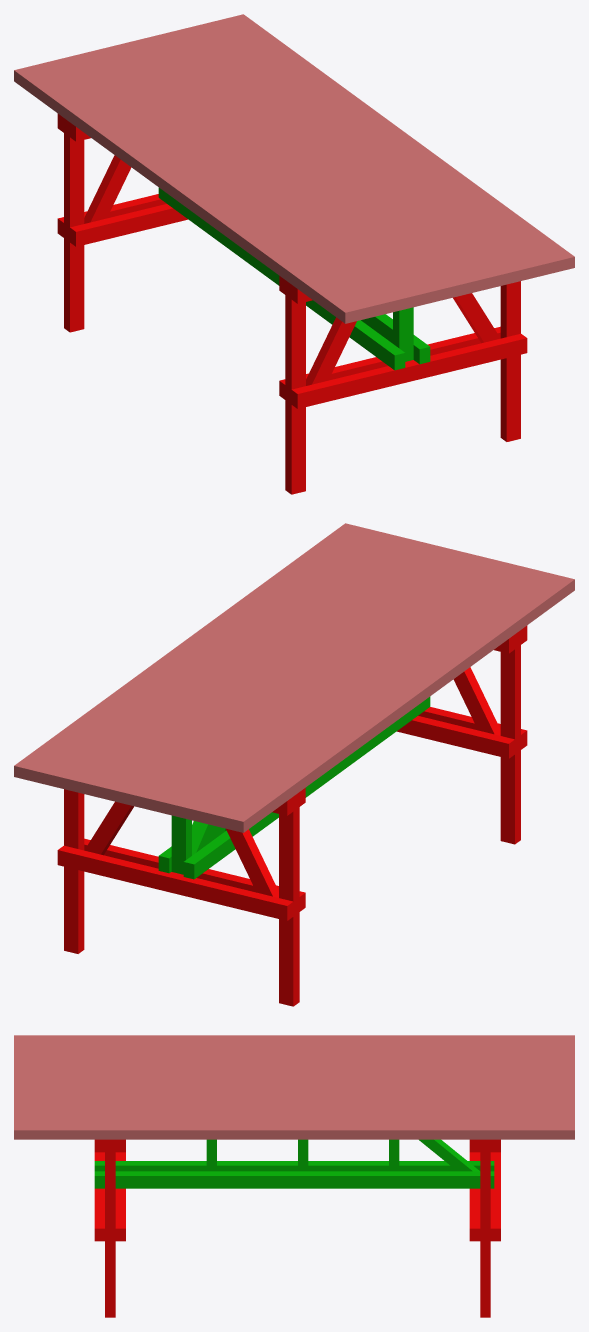
The model's file is result.glb.
The picture shows the model from 3 angles, top to bottom: view 1: azimuth 30°, elevation 25°; view 2: azimuth 150°, elevation 25°; view 3: azimuth 270°, elevation 25°; orthographic projection. The views are drawn at different scales.
Visible parts, largest first — view 1: f63db1d8-2d69-4f84-a3fc-b9dc0944ab00__Box, c507d235-5a14-4614-bfa7-ccb2640d1622__undefined, fe86011e-7398-49b5-8485-32fb0e5b5b6c__undefined, e96bb870-f099-4668-b173-f22ef5a2b9a7__undefined, eb4263c8-c96c-484e-93d6-34f1e4fbf21c__undefined, 46bde557-fb23-41fb-9177-49fc7b3fc7f9__undefined, 3be2fafb-542a-456f-b887-0e5b9a78c752__undefined, d27769af-35dd-4cf0-b831-893193ff208a__undefined, 1911e95e-22cd-4c92-9d74-c03f2558a0f6__undefined, 03194011-13da-468c-a1d5-36cc0beb4628__undefined, be2309a7-dd64-49d2-a565-8419b2b2bbde__undefined, cfa7d014-77df-4208-b47f-67898341acc1__undefined (+17 smaller); view 2: f63db1d8-2d69-4f84-a3fc-b9dc0944ab00__Box, c60cdaa5-fef5-437d-a140-616302a56ade__undefined, cfa7d014-77df-4208-b47f-67898341acc1__undefined, fe86011e-7398-49b5-8485-32fb0e5b5b6c__undefined, be2309a7-dd64-49d2-a565-8419b2b2bbde__undefined, c507d235-5a14-4614-bfa7-ccb2640d1622__undefined, 3e0b6f8d-5316-4c8a-b55b-9b5701a7d679__undefined, 95abfcd9-2939-45a6-a92c-fc98ef927d23__undefined, ddd89134-8539-4b78-8264-ab6224ce6c86__undefined, e96bb870-f099-4668-b173-f22ef5a2b9a7__undefined, 03194011-13da-468c-a1d5-36cc0beb4628__undefined, eb4263c8-c96c-484e-93d6-34f1e4fbf21c__undefined (+16 smaller); view 3: d27769af-35dd-4cf0-b831-893193ff208a__undefined, f94201b4-7f2b-4d5b-b57c-97f5ebb82b92__strutH, f63db1d8-2d69-4f84-a3fc-b9dc0944ab00__Box, c507d235-5a14-4614-bfa7-ccb2640d1622__undefined, ddd89134-8539-4b78-8264-ab6224ce6c86__undefined, be2309a7-dd64-49d2-a565-8419b2b2bbde__undefined, eb4263c8-c96c-484e-93d6-34f1e4fbf21c__undefined, dc74ca91-187e-4202-a12c-c9796b25f74c__undefined, cfa7d014-77df-4208-b47f-67898341acc1__undefined, 46bde557-fb23-41fb-9177-49fc7b3fc7f9__undefined, 3be2fafb-542a-456f-b887-0e5b9a78c752__undefined, 95abfcd9-2939-45a6-a92c-fc98ef927d23__undefined (+13 smaller).
Part boxes in pixels (bbox=[...]): f63db1d8-2d69-4f84-a3fc-b9dc0944ab00__Box: bbox=[14, 67, 359, 323]; c507d235-5a14-4614-bfa7-ccb2640d1622__undefined: bbox=[28, 63, 373, 320]; fe86011e-7398-49b5-8485-32fb0e5b5b6c__undefined: bbox=[57, 56, 402, 313]; e96bb870-f099-4668-b173-f22ef5a2b9a7__undefined: bbox=[100, 45, 445, 302]; eb4263c8-c96c-484e-93d6-34f1e4fbf21c__undefined: bbox=[143, 35, 488, 292]; 46bde557-fb23-41fb-9177-49fc7b3fc7f9__undefined: bbox=[186, 24, 531, 281]; 3be2fafb-542a-456f-b887-0e5b9a78c752__undefined: bbox=[201, 21, 546, 278]; d27769af-35dd-4cf0-b831-893193ff208a__undefined: bbox=[229, 14, 574, 271]; 1911e95e-22cd-4c92-9d74-c03f2558a0f6__undefined: bbox=[71, 52, 416, 309]; 03194011-13da-468c-a1d5-36cc0beb4628__undefined: bbox=[115, 42, 460, 299]; be2309a7-dd64-49d2-a565-8419b2b2bbde__undefined: bbox=[129, 39, 474, 295]; cfa7d014-77df-4208-b47f-67898341acc1__undefined: bbox=[172, 28, 517, 285]; f63db1d8-2d69-4f84-a3fc-b9dc0944ab00__Box: bbox=[229, 576, 574, 832]; c60cdaa5-fef5-437d-a140-616302a56ade__undefined: bbox=[57, 845, 293, 920]; cfa7d014-77df-4208-b47f-67898341acc1__undefined: bbox=[71, 537, 416, 794]; fe86011e-7398-49b5-8485-32fb0e5b5b6c__undefined: bbox=[186, 565, 531, 822]; be2309a7-dd64-49d2-a565-8419b2b2bbde__undefined: bbox=[114, 548, 459, 804]; c507d235-5a14-4614-bfa7-ccb2640d1622__undefined: bbox=[215, 572, 560, 829]; 3e0b6f8d-5316-4c8a-b55b-9b5701a7d679__undefined: bbox=[157, 558, 502, 815]; 95abfcd9-2939-45a6-a92c-fc98ef927d23__undefined: bbox=[28, 527, 373, 783]; ddd89134-8539-4b78-8264-ab6224ce6c86__undefined: bbox=[200, 569, 545, 825]; e96bb870-f099-4668-b173-f22ef5a2b9a7__undefined: bbox=[143, 555, 488, 811]; 03194011-13da-468c-a1d5-36cc0beb4628__undefined: bbox=[128, 551, 473, 808]; eb4263c8-c96c-484e-93d6-34f1e4fbf21c__undefined: bbox=[100, 544, 445, 801]; d27769af-35dd-4cf0-b831-893193ff208a__undefined: bbox=[14, 1124, 574, 1139]; f94201b4-7f2b-4d5b-b57c-97f5ebb82b92__strutH: bbox=[94, 1171, 494, 1188]; f63db1d8-2d69-4f84-a3fc-b9dc0944ab00__Box: bbox=[14, 1035, 574, 1041]; c507d235-5a14-4614-bfa7-ccb2640d1622__undefined: bbox=[14, 1041, 574, 1047]; ddd89134-8539-4b78-8264-ab6224ce6c86__undefined: bbox=[14, 1047, 574, 1053]; be2309a7-dd64-49d2-a565-8419b2b2bbde__undefined: bbox=[14, 1082, 574, 1088]; eb4263c8-c96c-484e-93d6-34f1e4fbf21c__undefined: bbox=[14, 1088, 574, 1094]; dc74ca91-187e-4202-a12c-c9796b25f74c__undefined: bbox=[14, 1094, 574, 1100]; cfa7d014-77df-4208-b47f-67898341acc1__undefined: bbox=[14, 1100, 574, 1106]; 46bde557-fb23-41fb-9177-49fc7b3fc7f9__undefined: bbox=[14, 1106, 574, 1112]; 3be2fafb-542a-456f-b887-0e5b9a78c752__undefined: bbox=[14, 1112, 574, 1118]; 95abfcd9-2939-45a6-a92c-fc98ef927d23__undefined: bbox=[14, 1118, 574, 1124].
Size of the model in its own units: 800 by 737 by 2000.
